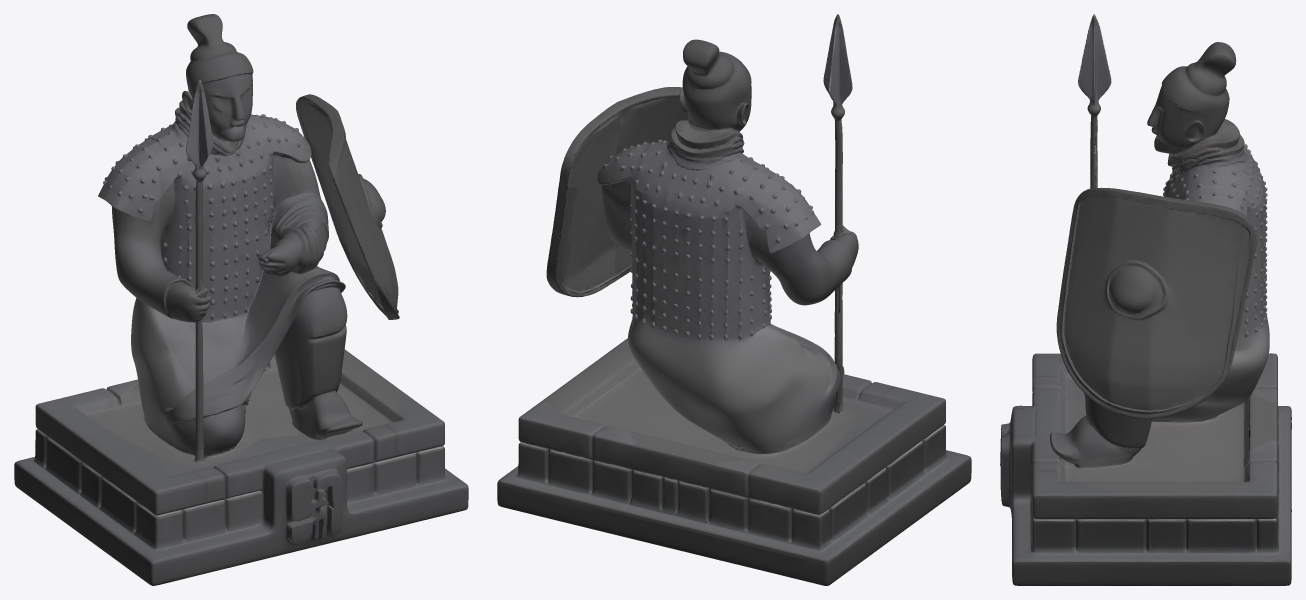
Rendered from pawn.glb.
The picture shows the model from 3 angles, left to right: view 1: azimuth 30°, elevation 25°; view 2: azimuth 150°, elevation 25°; view 3: azimuth 270°, elevation 25°; orthographic projection. The views are drawn at different scales.
Parts seen in each view (by area): view 1: model; view 2: model; view 3: model.
Boxes of the visible parts, x1,y1,x2,y2 form: model: (14, 14, 468, 585); model: (497, 14, 971, 585); model: (1000, 14, 1291, 585).
Size of the model in its own units: 1.38 by 1.9 by 1.08.
Materials: 1 (1 with a texture image).
